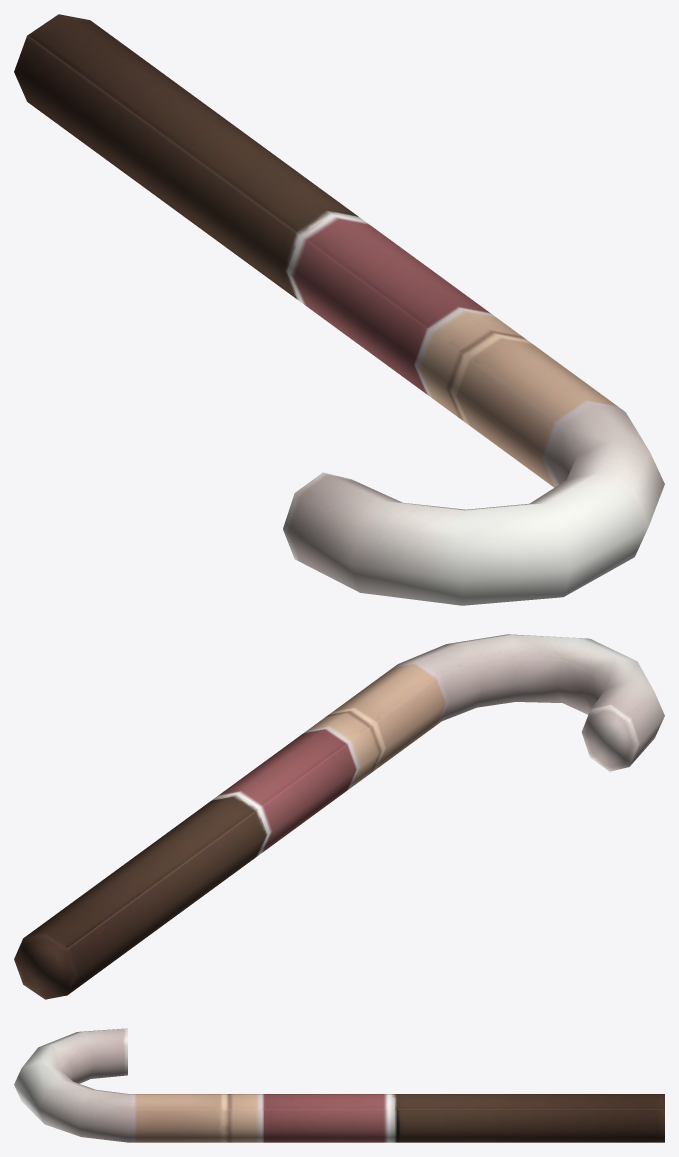
The model's file is M_Walking_stickA_2.glb.
The picture shows the model from 3 angles, top to bottom: view 1: azimuth 30°, elevation 25°; view 2: azimuth 150°, elevation 25°; view 3: azimuth 270°, elevation 25°; orthographic projection. The views are drawn at different scales.
Visible parts, largest first — view 1: SM_Walking_stickA; view 2: SM_Walking_stickA; view 3: SM_Walking_stickA.
Boxes of the visible parts, x1,y1,x2,y2 form: SM_Walking_stickA: [14, 14, 664, 605]; SM_Walking_stickA: [14, 634, 664, 999]; SM_Walking_stickA: [14, 1028, 664, 1142].
Size of the model in its own units: 0.2389 by 0.06 by 0.7544.
Materials: 1 (1 with a texture image).
